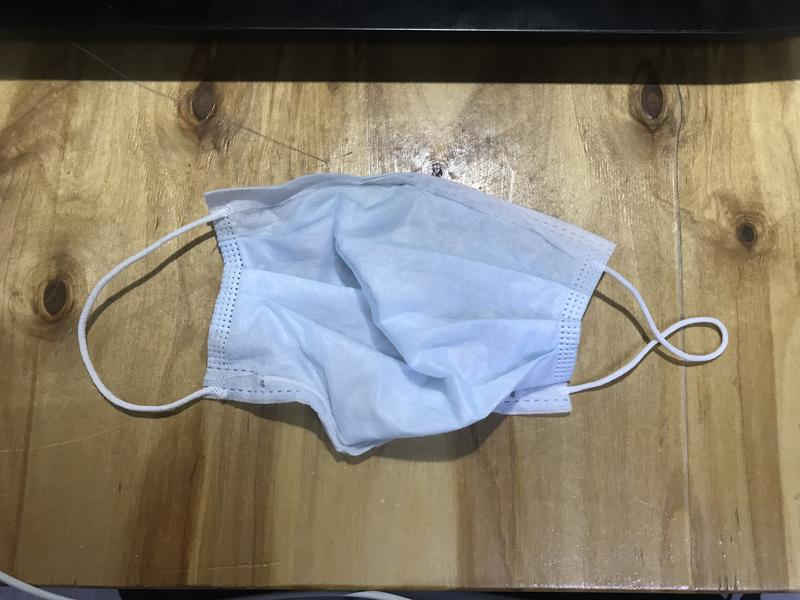medical_mask: (78, 174, 727, 456)
